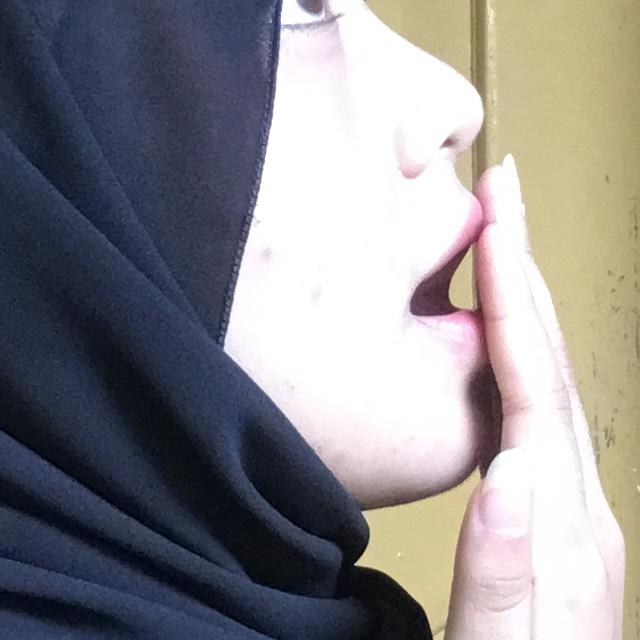ngantuk: (260, 6, 640, 640)
